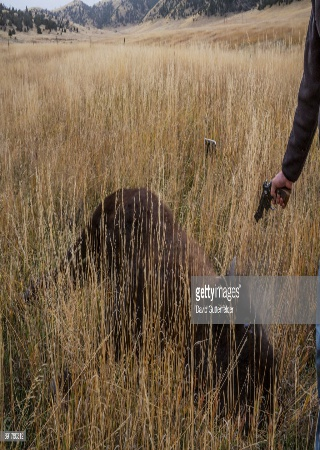handgun: (253, 175, 292, 226)
